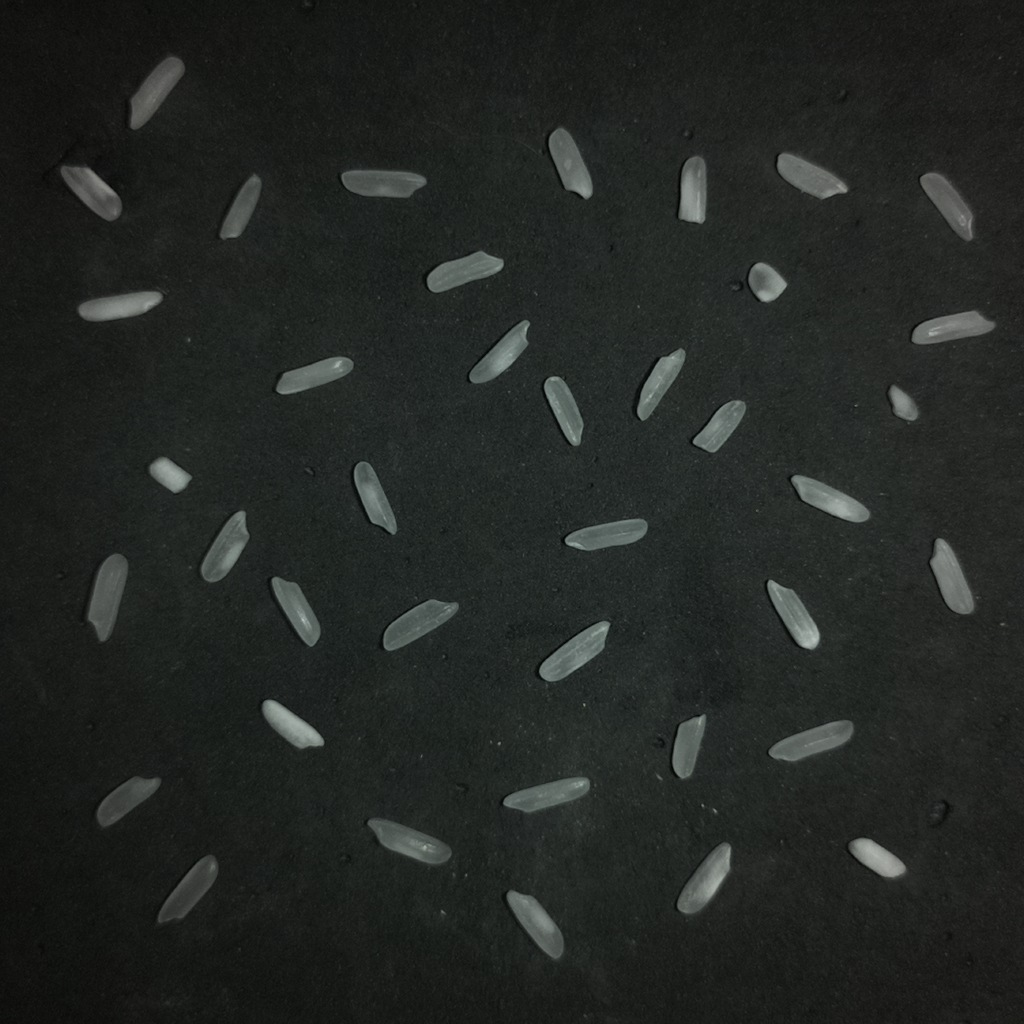chalky: (539, 620, 609, 681), (129, 56, 184, 129), (506, 890, 564, 959), (676, 843, 731, 914), (469, 320, 529, 383), (790, 475, 869, 522), (767, 579, 819, 649), (636, 348, 684, 420), (60, 165, 121, 221), (929, 538, 973, 614), (353, 461, 397, 535), (426, 251, 503, 292), (548, 127, 592, 198), (261, 699, 323, 748), (275, 357, 353, 394), (692, 400, 745, 452), (78, 290, 163, 321), (848, 837, 905, 878), (678, 156, 706, 223), (148, 456, 191, 492), (748, 262, 786, 302), (887, 385, 918, 421)
whole: (158, 854, 218, 923), (366, 818, 451, 865), (383, 599, 458, 650), (86, 554, 127, 641), (920, 172, 972, 240), (768, 720, 853, 761), (200, 511, 249, 582), (271, 577, 320, 646), (95, 776, 160, 827), (776, 154, 848, 198), (503, 778, 589, 812), (911, 310, 995, 344), (219, 174, 261, 239), (544, 376, 583, 445), (564, 519, 647, 550), (340, 170, 426, 198), (671, 714, 705, 778)
